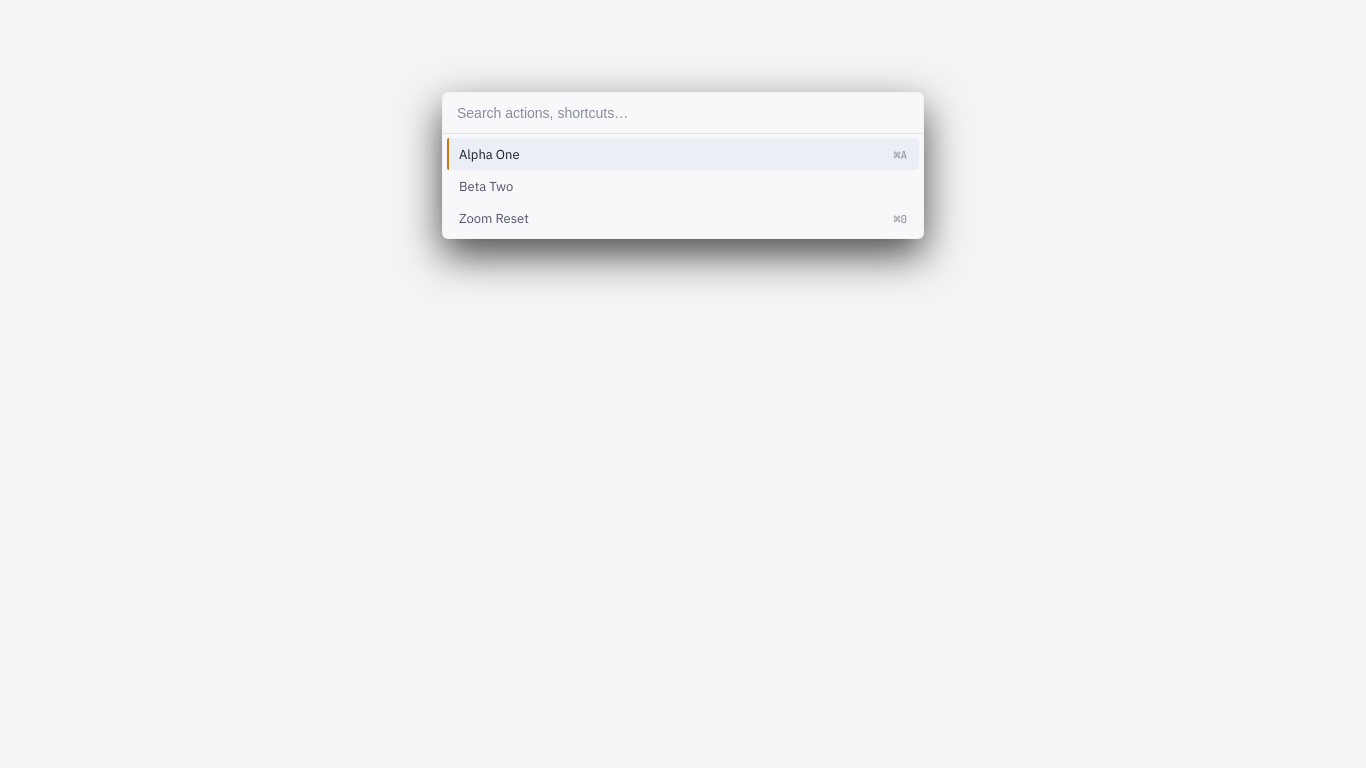
Scenario: reopening › resets the query and the selection
In the field with id "command-palette-input": (683, 114) [443, 93, 923, 134], type "zoom"
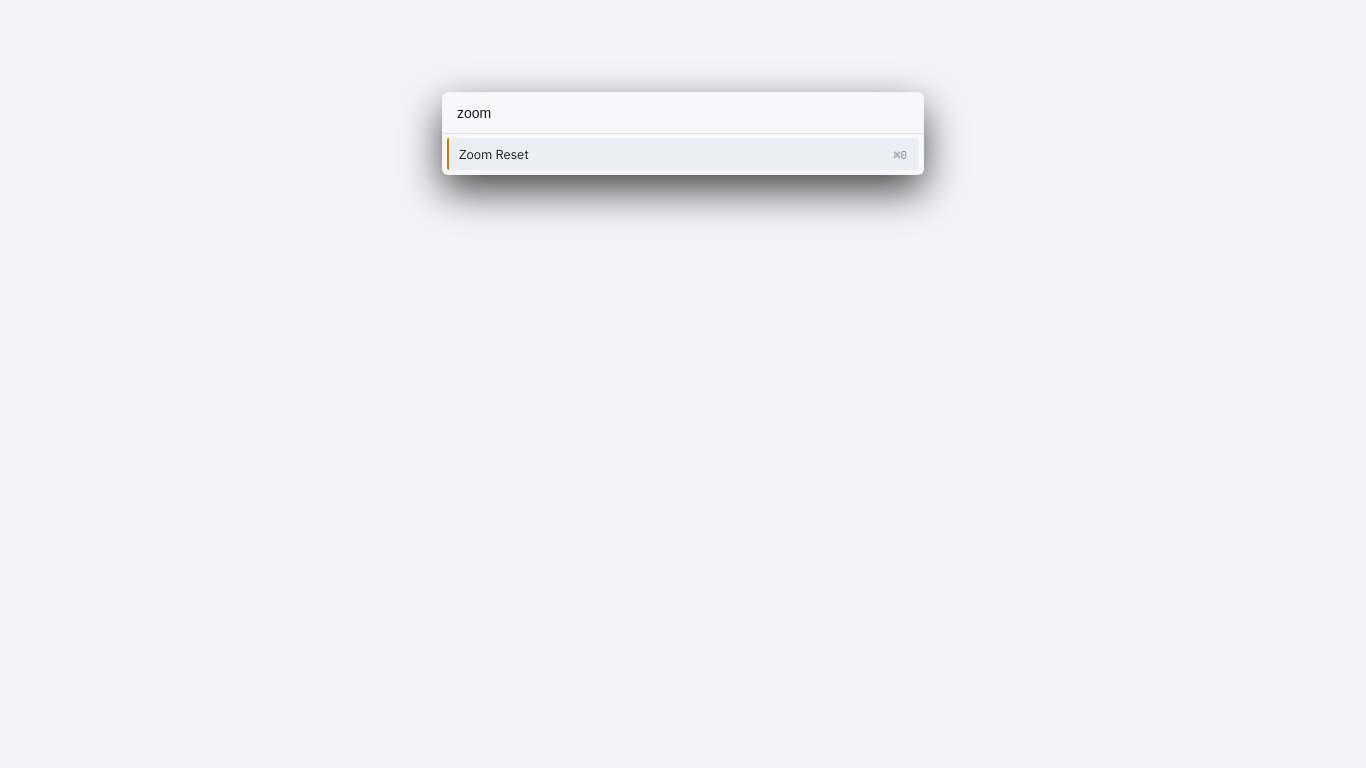
Press ArrowDown in the dialog with id "command-palette", box [442, 92, 924, 175]
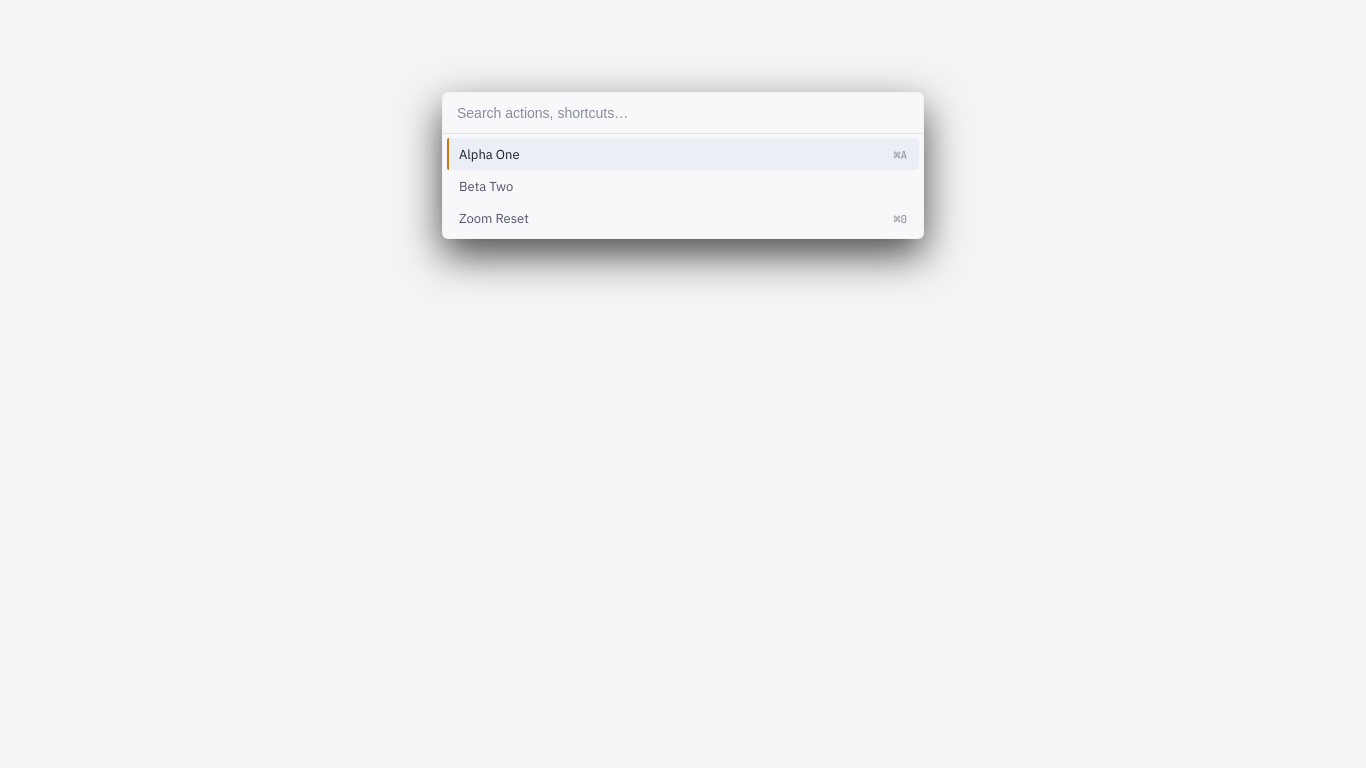
Expected: the field with id "command-palette-input" is empty, [443, 93, 923, 134]
Expected: the text "Alpha One" is shown, [459, 146, 520, 163]
